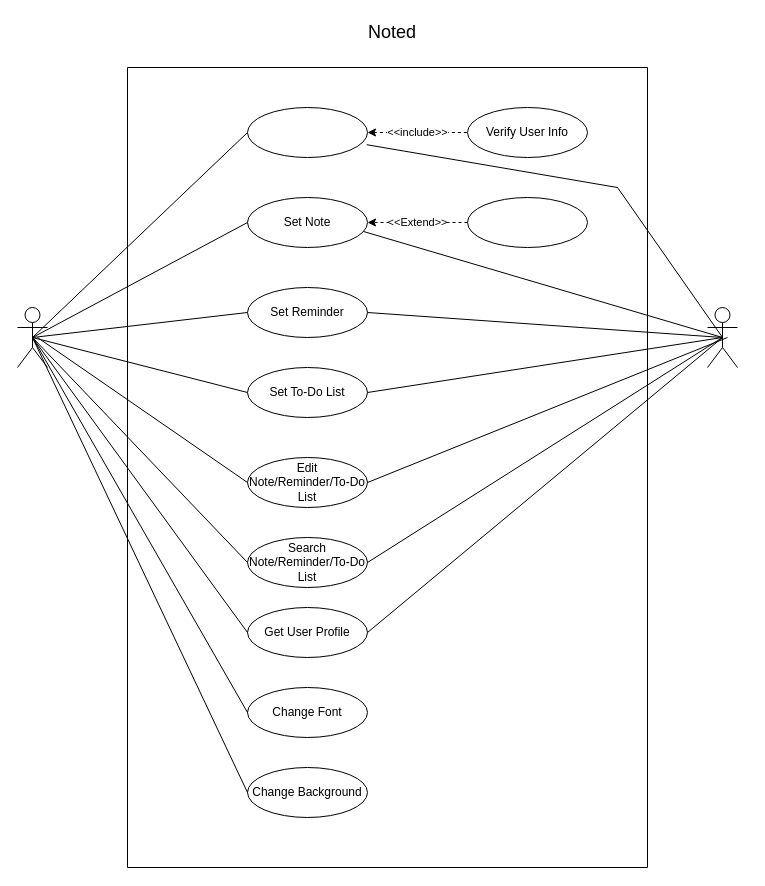
Image size: 765x886. Some labels were removed from this diagram. The shapes that lost their labels are listed below. From the top down, each one's centre as x and y in pixels, then its label:
point (307, 132): Create User
point (527, 222): Lock Notes
point (32, 337): User
point (722, 337): Database
